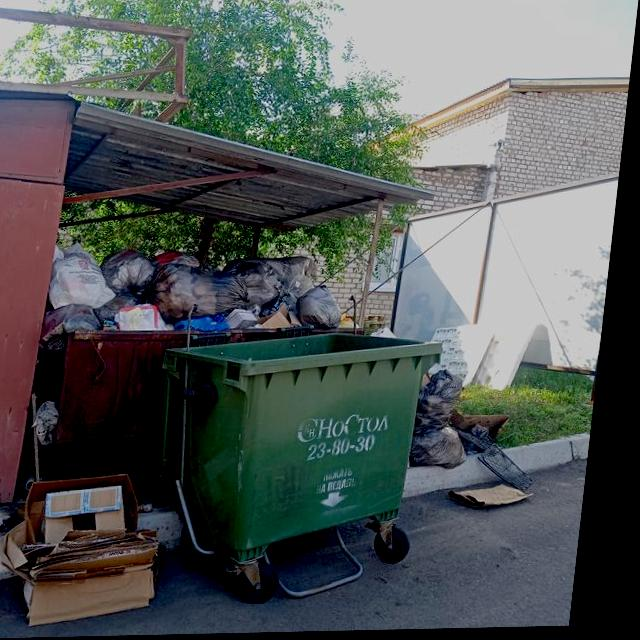Trash_Can_Empty: (157, 330, 453, 552)
